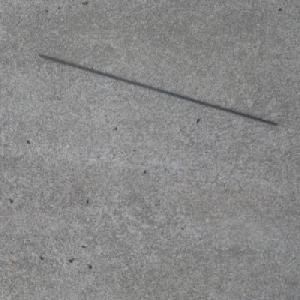LuggagePart: (36, 53, 279, 126)
